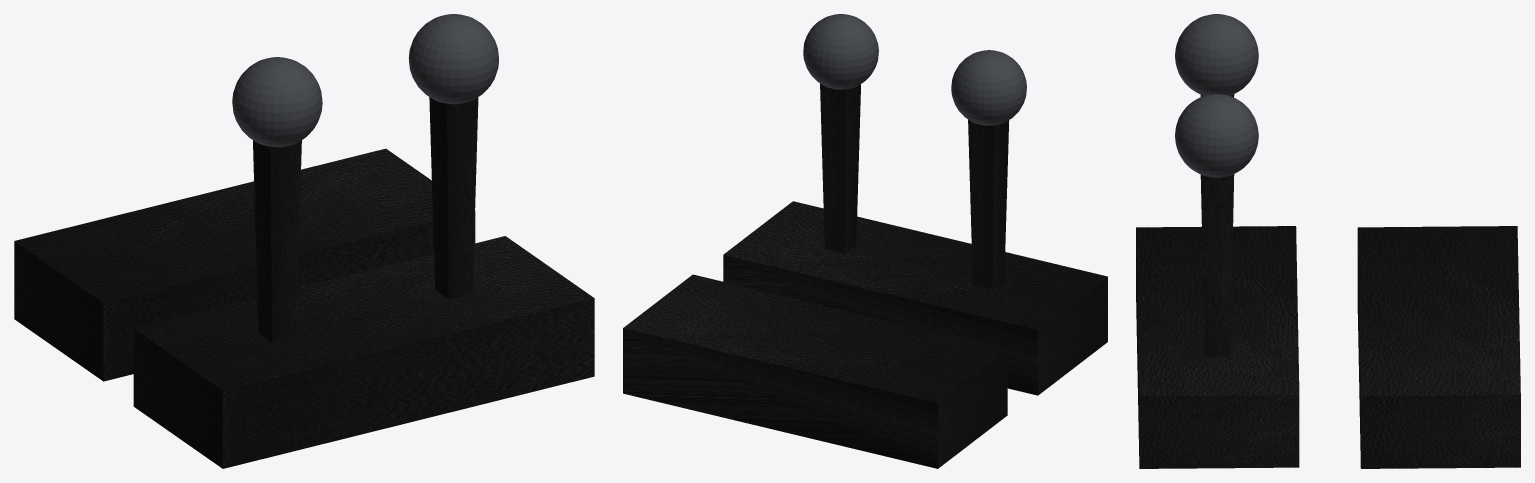
The model's file is microphone.gltf.
3 renders of one model, left to right at view 1: azimuth 30°, elevation 25°; view 2: azimuth 150°, elevation 25°; view 3: azimuth 270°, elevation 25°, orthographic. The views are drawn at different scales.
Parts seen in each view (by area): view 1: Cube.340, Cube.341; view 2: Cube.340, Cube.341; view 3: Cube.340, Cube.341.
Part boxes in pixels (x1,y1,x2,y2): Cube.340: (14, 148, 594, 468); Cube.341: (232, 14, 498, 342); Cube.340: (623, 201, 1107, 468); Cube.341: (803, 14, 1026, 289); Cube.340: (1136, 226, 1520, 468); Cube.341: (1175, 14, 1258, 356).
Size of the model in its own units: 0.252 by 0.225 by 0.2404.
2 materials, 2 textured.
